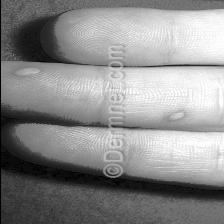Toxin: (12, 64, 50, 78), (156, 114, 186, 128)
